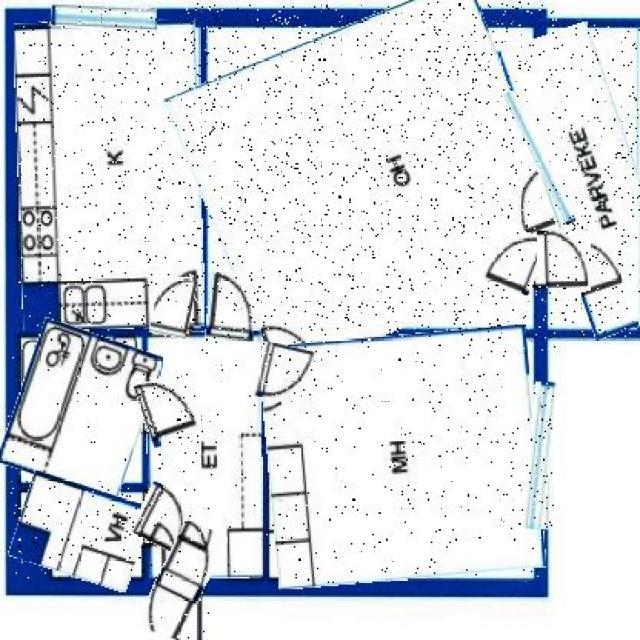door: (147, 520, 216, 640), (138, 374, 202, 444), (134, 486, 195, 549), (484, 228, 544, 292), (206, 272, 257, 343), (255, 345, 314, 403), (538, 231, 591, 292), (152, 275, 195, 337)
window: (518, 89, 560, 228), (526, 383, 554, 531), (51, 6, 157, 31)
zone: (186, 2, 557, 350), (264, 331, 542, 583), (17, 20, 201, 331), (520, 25, 640, 337), (148, 332, 262, 578), (6, 326, 154, 494), (14, 480, 146, 585)
